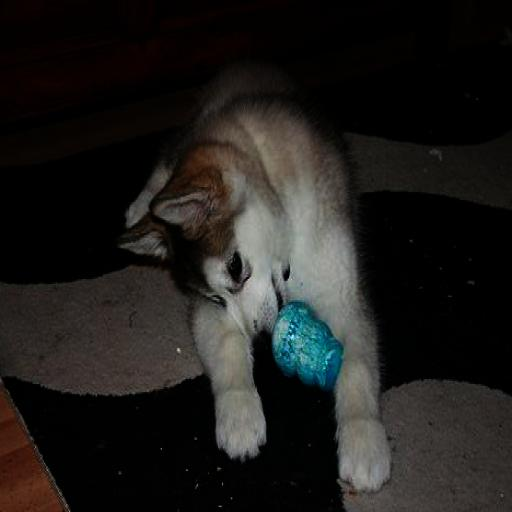dog_face: (153, 143, 292, 351)
